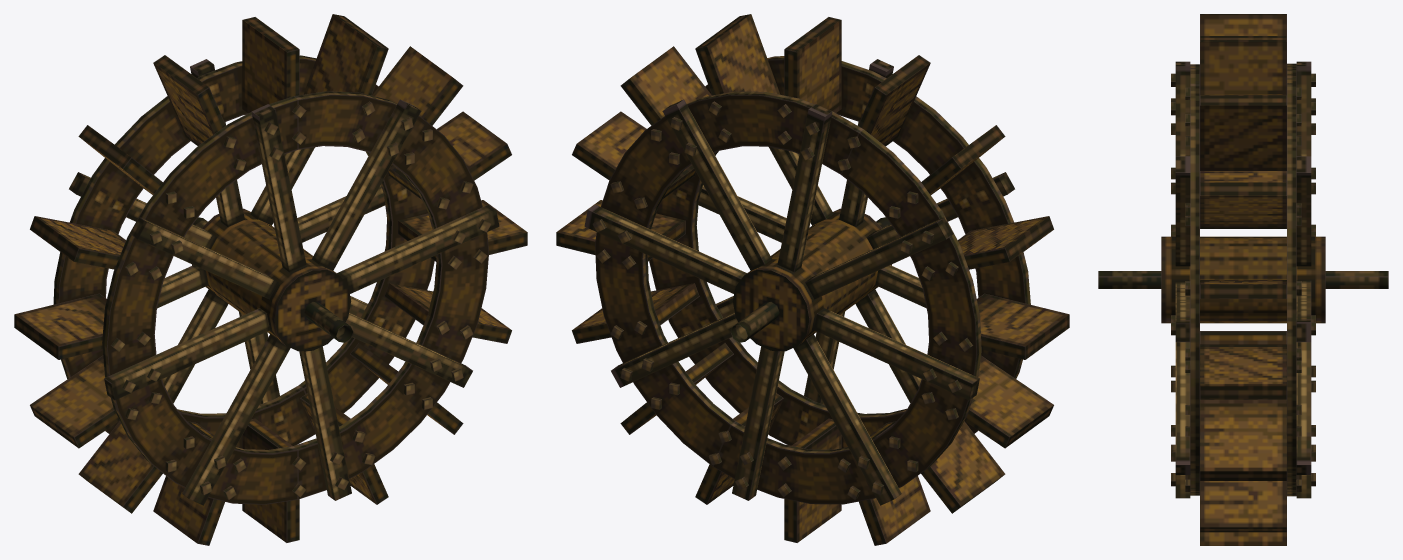
The model's file is EnvBdgMD_Forest_A_Outdoor_WaterWheel_B.FBX.
3 views of the same model, side by side, from view 1: azimuth 30°, elevation 25°; view 2: azimuth 150°, elevation 25°; view 3: azimuth 270°, elevation 25° (orthographic).
Parts seen in each view (by area): view 1: EnvBdgMD_Forest_A_Outdoor_WaterWheel_B; view 2: EnvBdgMD_Forest_A_Outdoor_WaterWheel_B; view 3: EnvBdgMD_Forest_A_Outdoor_WaterWheel_B.
Boxes of the visible parts, x1=… form: EnvBdgMD_Forest_A_Outdoor_WaterWheel_B: x1=14, y1=14, x2=527, y2=545; EnvBdgMD_Forest_A_Outdoor_WaterWheel_B: x1=556, y1=14, x2=1069, y2=545; EnvBdgMD_Forest_A_Outdoor_WaterWheel_B: x1=1098, y1=14, x2=1388, y2=545.
Bounding box in the file's own units: 550 × 550 × 300.
